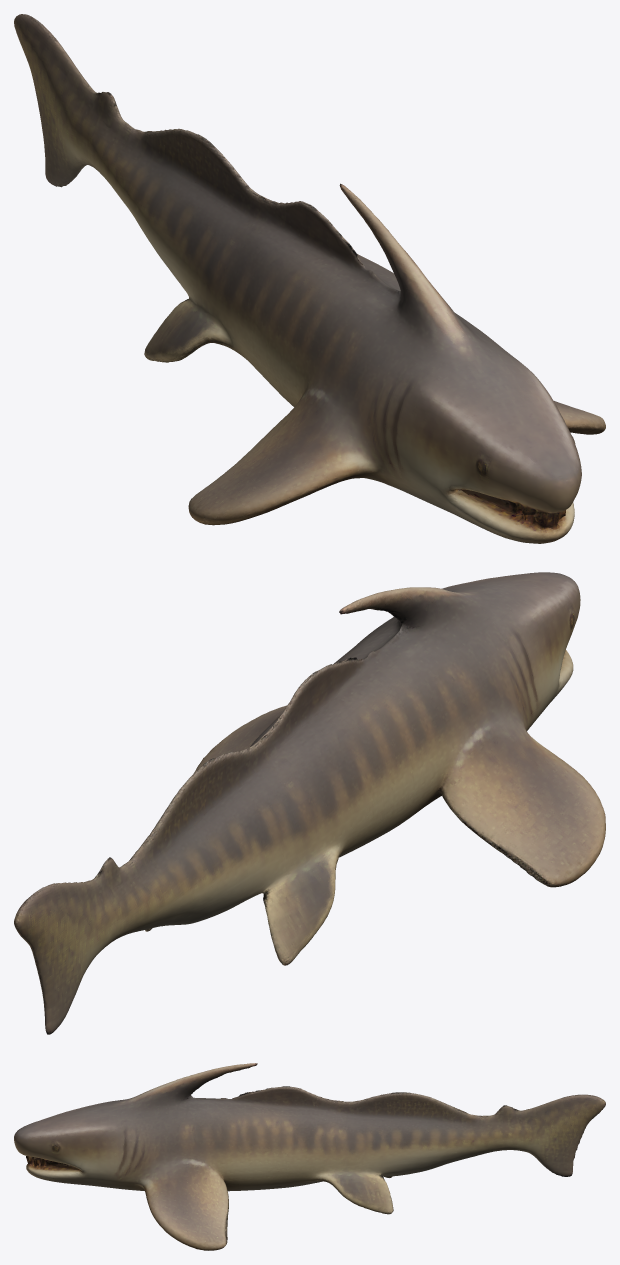
3 renders of one model, top to bottom at view 1: azimuth 30°, elevation 25°; view 2: azimuth 150°, elevation 25°; view 3: azimuth 270°, elevation 25°, orthographic. The views are drawn at different scales.
Visible parts, largest first — view 1: world; view 2: world; view 3: world.
Part boxes in pixels (box(x1,y1,x2,y2)): world: box(14, 14, 605, 543); world: box(14, 572, 605, 1034); world: box(14, 1063, 605, 1250).
Size of the model in its own units: 1.15 by 0.7218 by 2.8.
1 material, 1 textured.
